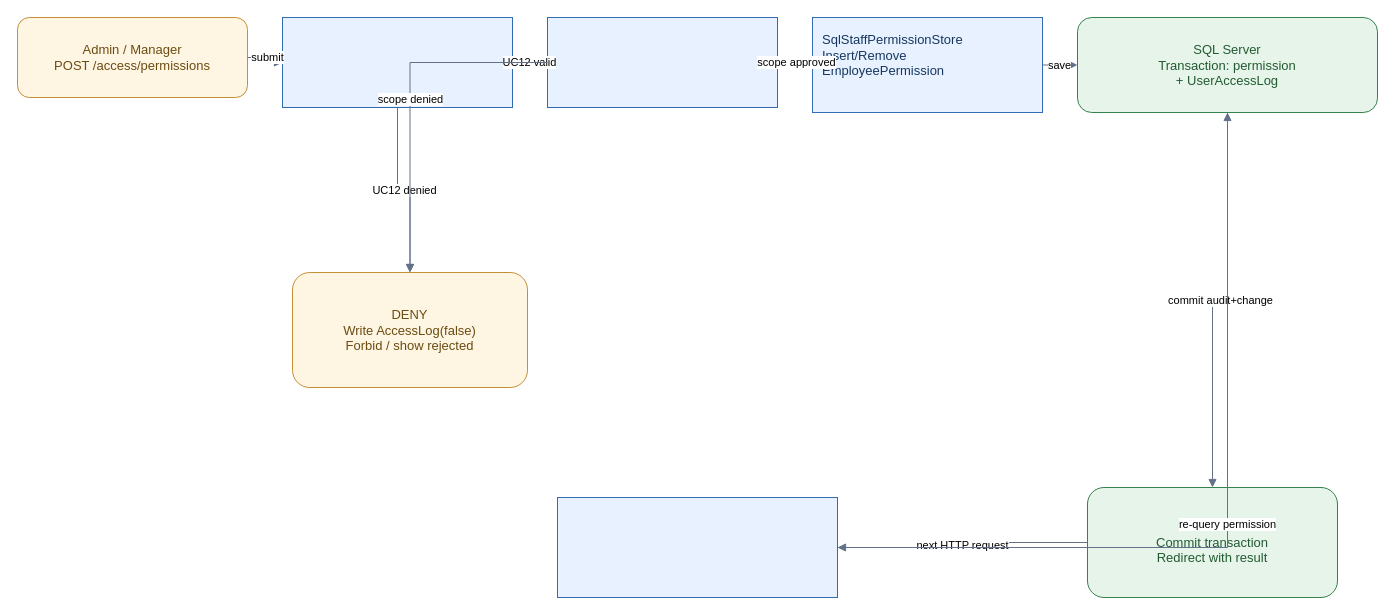
This 1395x615 diagram has some shape labels left out. The shapes that lost their labels are listed below. From the top down, each one's centre as x and y in pixels, then its label:
pixel 397 62: AccessController Cookie/anti-forgery Check UC12 permission
pixel 662 62: StaffPermissionService SqlPolicy check actor, target, scope
pixel 697 547: Next request Permission Checker reads fresh DB state
